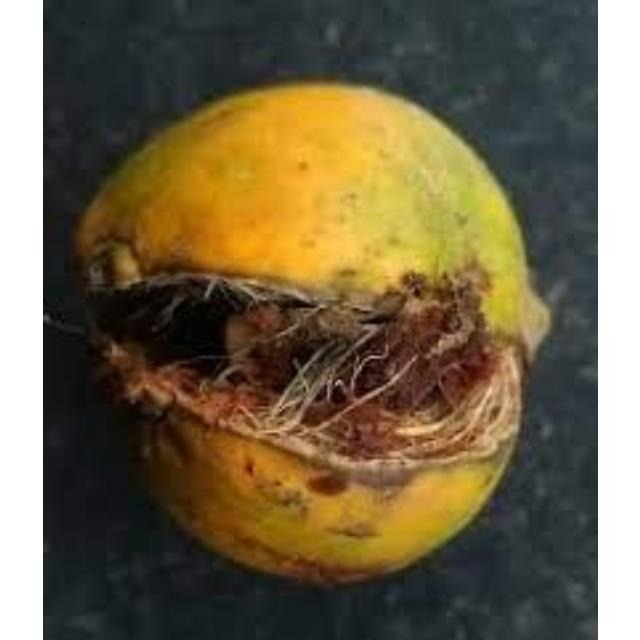damaged: (74, 88, 547, 579)
